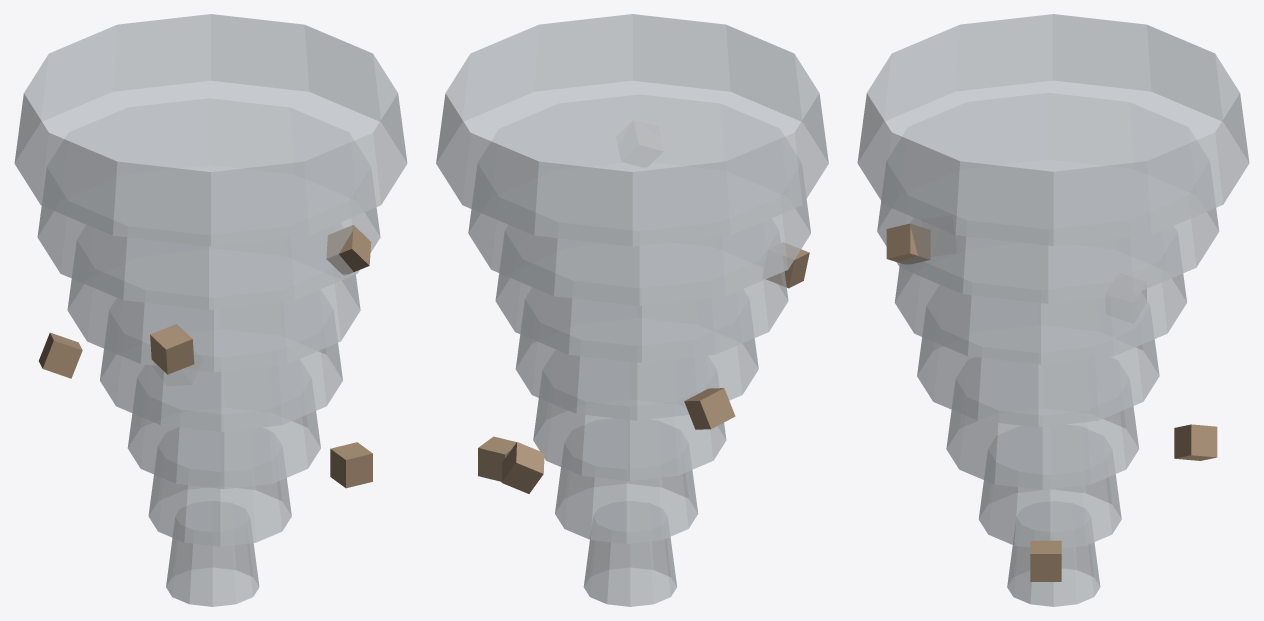
The model's file is tornado.glb.
3 views of the same model, side by side, from view 1: azimuth 30°, elevation 25°; view 2: azimuth 150°, elevation 25°; view 3: azimuth 270°, elevation 25° (orthographic).
Parts seen in each view (by area): view 1: tornado; view 2: tornado; view 3: tornado.
Part boxes in pixels (box(x1,y1,x2,y2)): tornado: box(14, 14, 407, 606); tornado: box(436, 14, 828, 606); tornado: box(857, 14, 1249, 606).
Bounding box in the file's own units: 2.52 × 3.5 × 2.52.
